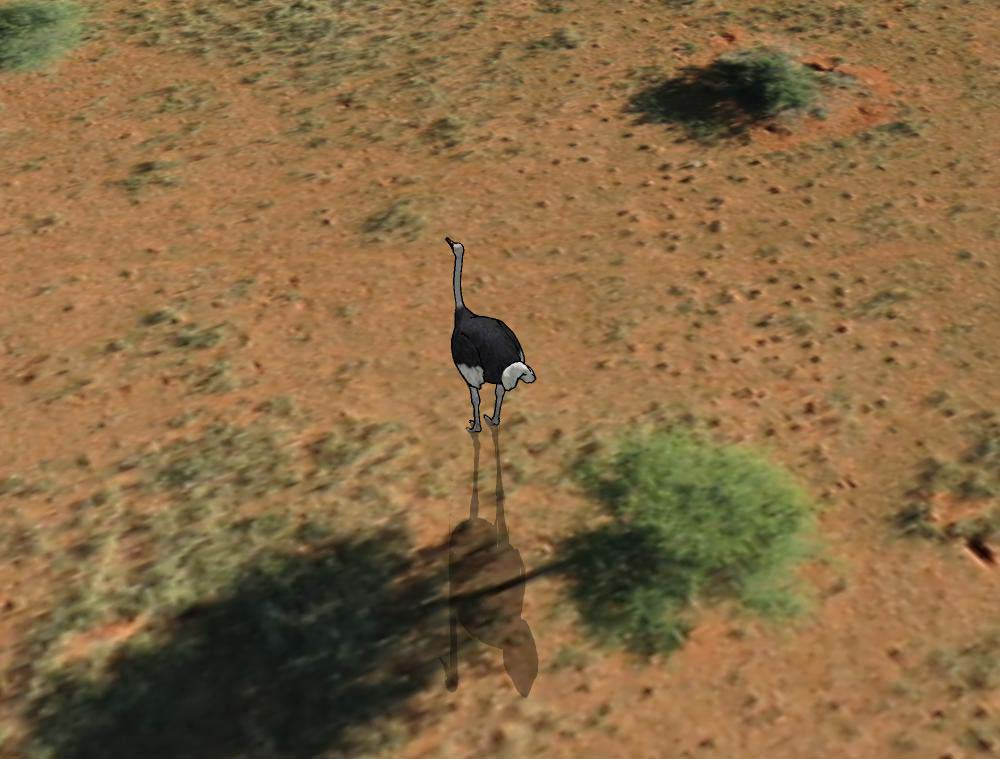ostrich: (438, 228, 535, 441)
